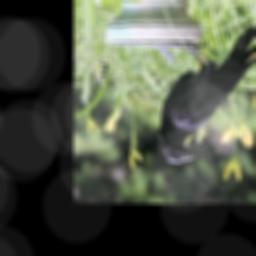Crow: (157, 24, 256, 164)
